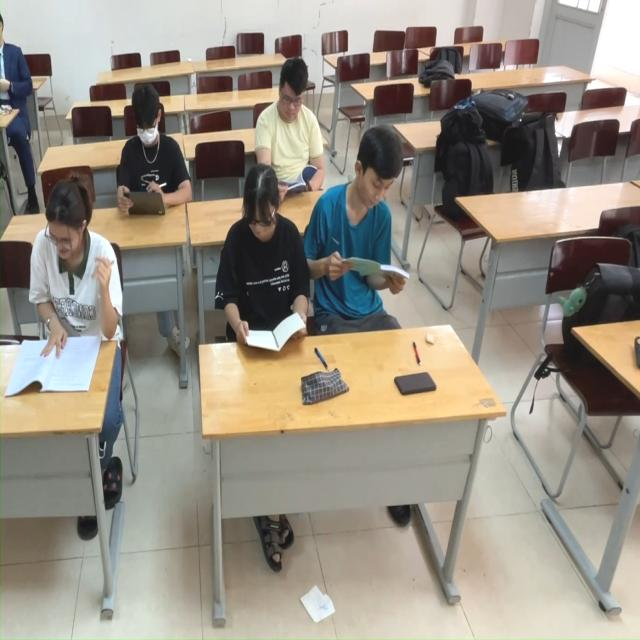read: (302, 118, 418, 333)
